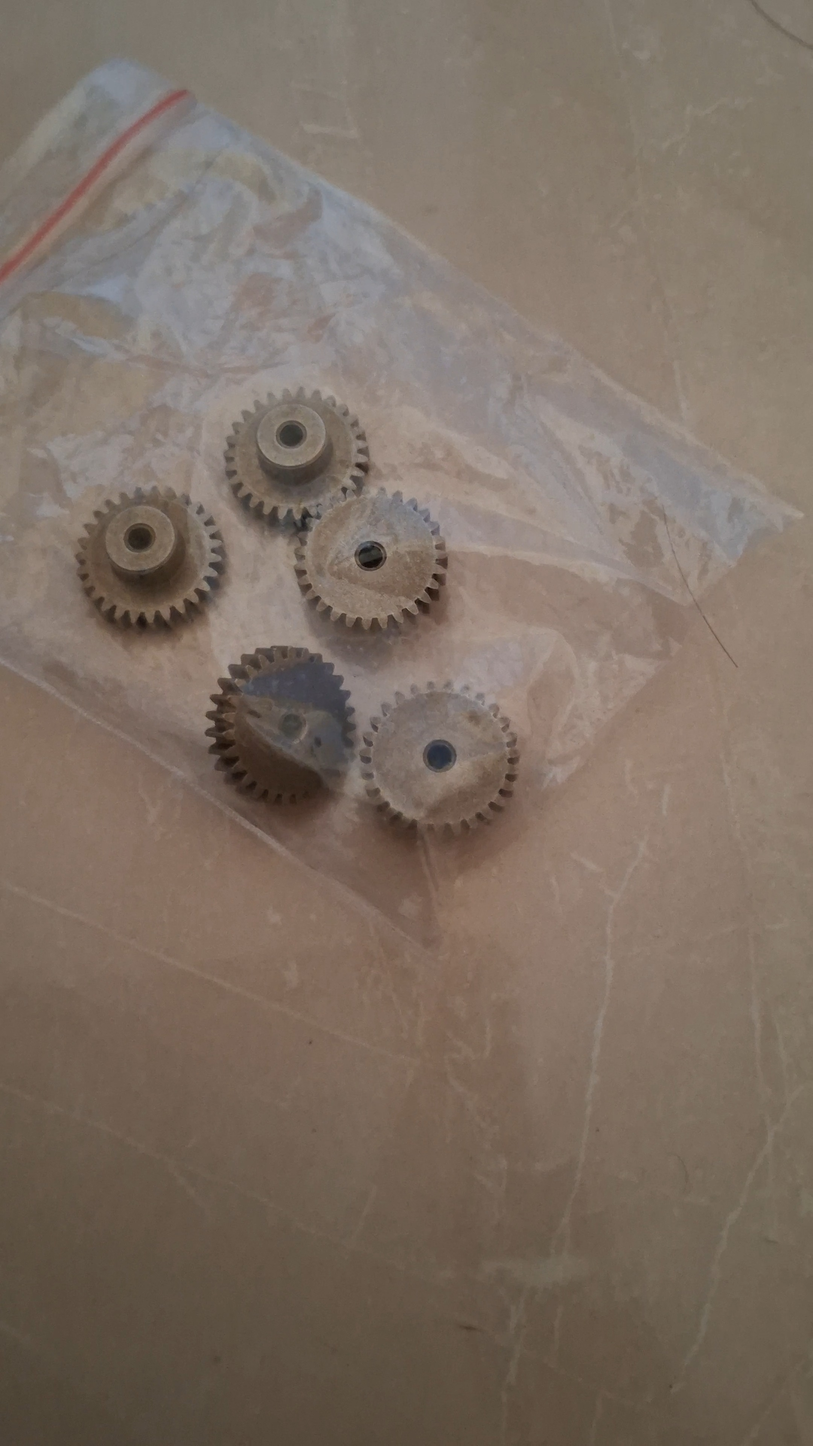spur gear: (360, 683, 518, 833), (206, 646, 353, 801), (296, 490, 447, 629), (76, 488, 224, 626), (225, 388, 368, 522)
